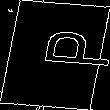P_W: (11, 34, 99, 76)
